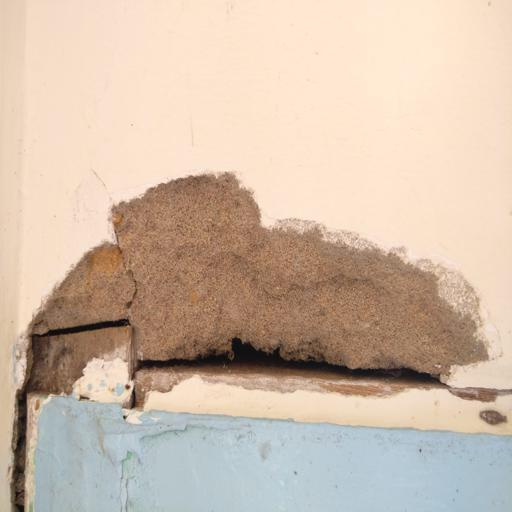spalling: (14, 162, 490, 419)
